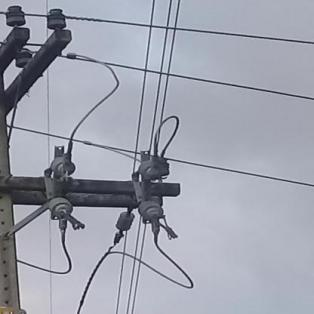Poste: (0, 36, 69, 313)
